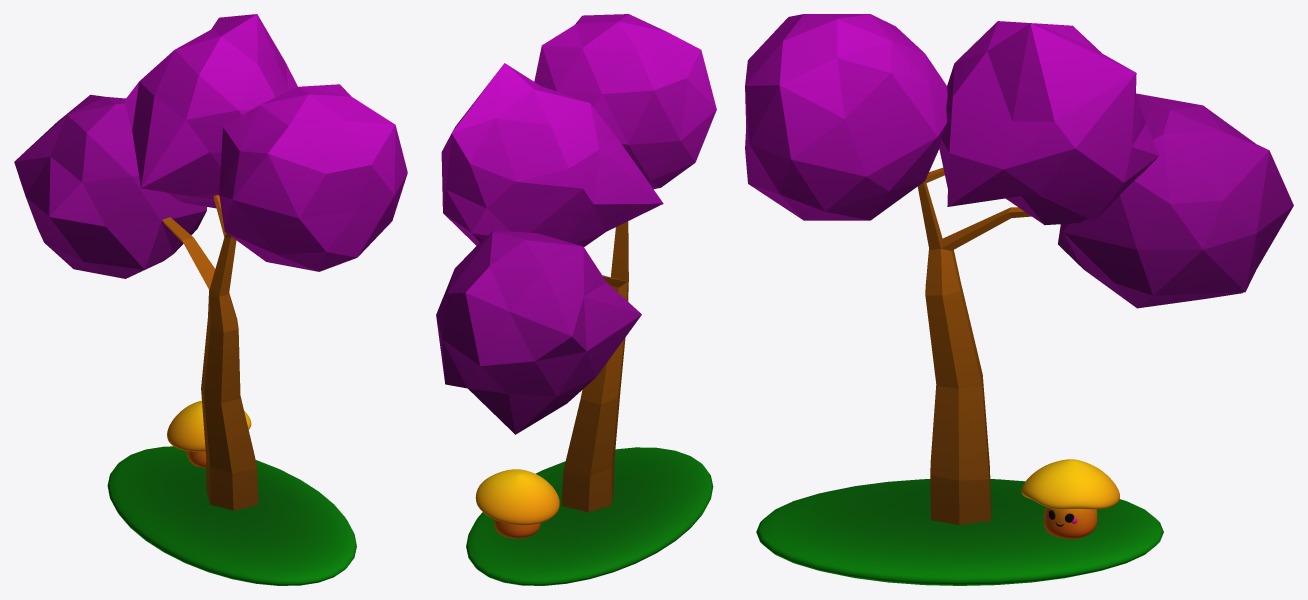
Rendered from treeshroom.glb.
3 renders of one model, left to right at view 1: azimuth 30°, elevation 25°; view 2: azimuth 150°, elevation 25°; view 3: azimuth 270°, elevation 25°, orthographic. The views are drawn at different scales.
Parts seen in each view (by area): view 1: Icosphere, Sphere, Icosphere.002, Icosphere.001, Cube, Cube.001; view 2: Icosphere.002, Icosphere.001, Icosphere, Sphere, Cube, Cube.001; view 3: Icosphere, Icosphere.001, Icosphere.002, Sphere, Cube, Cube.001.
Boxes of the visible parts, left/top/right/bottom form: Icosphere: left=219, top=84, right=407, bottom=271; Sphere: left=107, top=446, right=356, bottom=585; Icosphere.002: left=14, top=94, right=206, bottom=278; Icosphere.001: left=124, top=14, right=297, bottom=208; Cube: left=162, top=195, right=258, bottom=510; Cube.001: left=167, top=400, right=251, bottom=467; Icosphere.002: left=436, top=230, right=641, bottom=434; Icosphere.001: left=441, top=63, right=663, bottom=246; Icosphere: left=534, top=14, right=716, bottom=189; Sphere: left=466, top=447, right=713, bottom=585; Cube: left=561, top=221, right=628, bottom=512; Cube.001: left=475, top=469, right=559, bottom=538; Icosphere: left=745, top=14, right=947, bottom=220; Icosphere.001: left=939, top=21, right=1159, bottom=225; Icosphere.002: left=1058, top=93, right=1293, bottom=308; Sphere: left=756, top=479, right=1163, bottom=585; Cube: left=917, top=167, right=1031, bottom=524; Cube.001: left=1021, top=459, right=1119, bottom=538.
Bounding box in the file's own units: 9.98 × 20.91 × 18.57.
4 materials, 1 textured.
